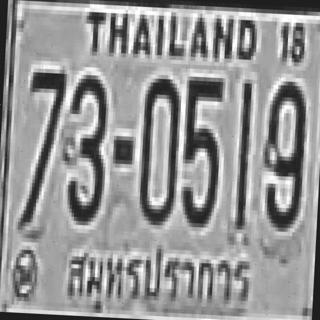N00: (136, 74, 180, 222)
N01: (232, 77, 252, 228)
N03: (60, 70, 110, 222)
N05: (178, 72, 222, 224)
N07: (18, 66, 65, 226), (22, 66, 66, 222)
N09: (260, 77, 306, 229)
P57: (62, 233, 252, 318)
